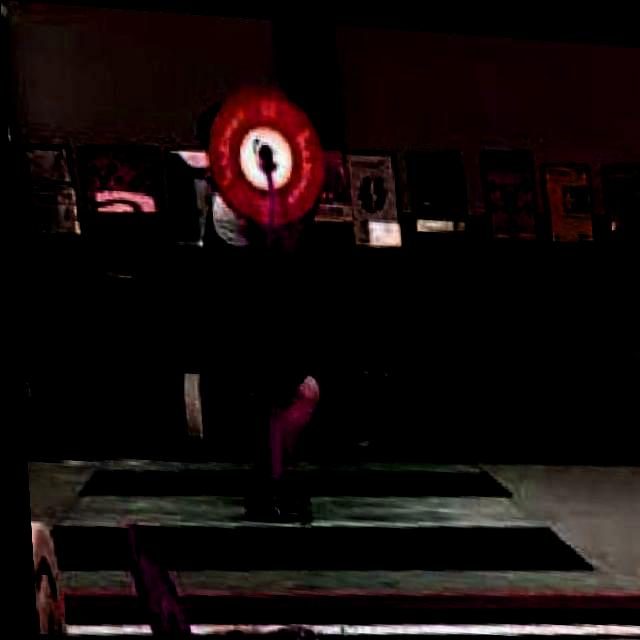barbell: (197, 73, 334, 235)
